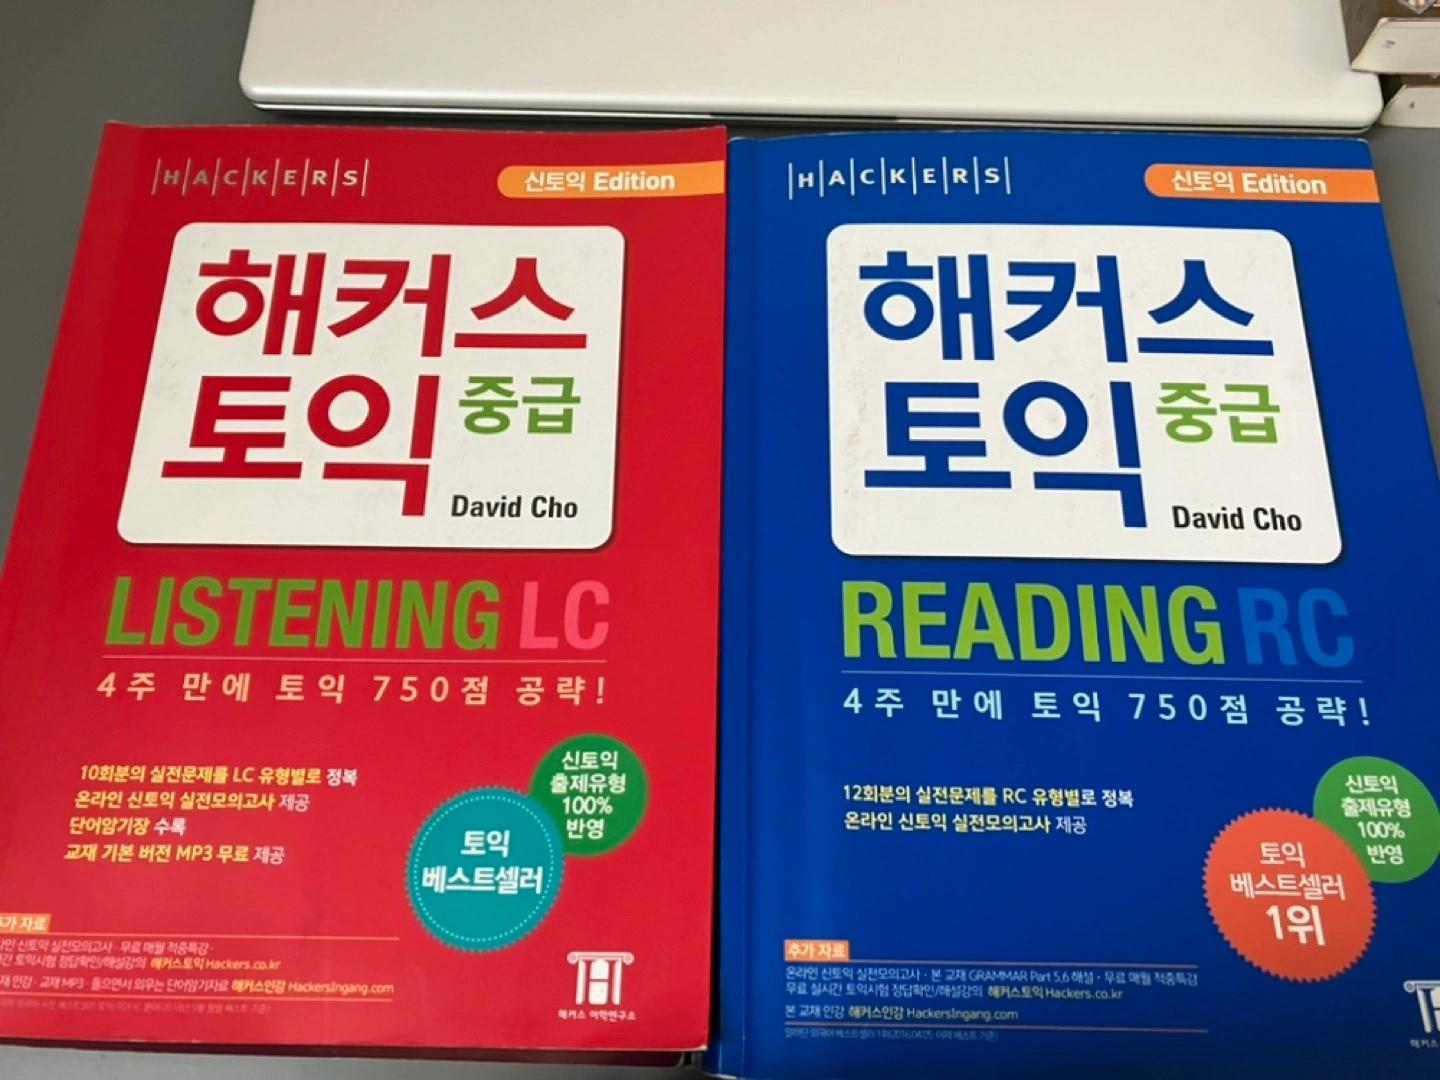book: (705, 128, 1438, 1078), (1, 119, 726, 1061)
